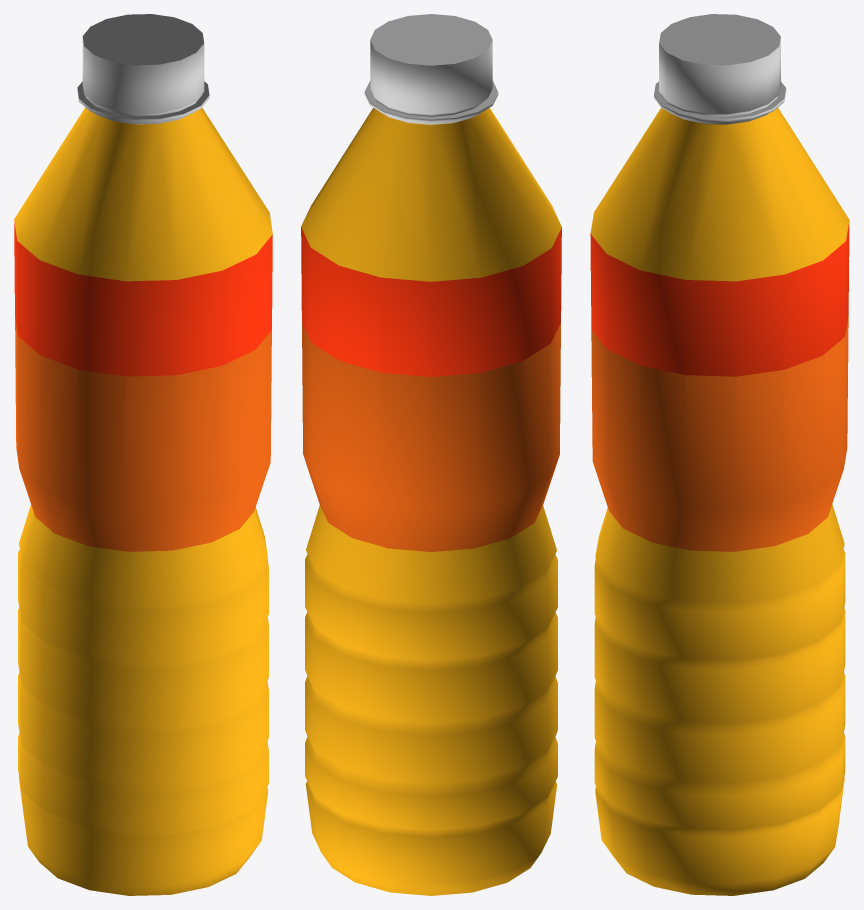
The model's file is Orange Juice.fbx.
3 renders of one model, left to right at view 1: azimuth 30°, elevation 25°; view 2: azimuth 150°, elevation 25°; view 3: azimuth 270°, elevation 25°, orthographic.
Visible parts, largest first — view 1: Node 0; view 2: Node 0; view 3: Node 0.
Part boxes in pixels (left/top/right/bottom): Node 0: left=14, top=14, right=272, bottom=895; Node 0: left=301, top=14, right=561, bottom=895; Node 0: left=590, top=14, right=849, bottom=895.
Size of the model in its own units: 0.0681 by 0.2353 by 0.0681.
